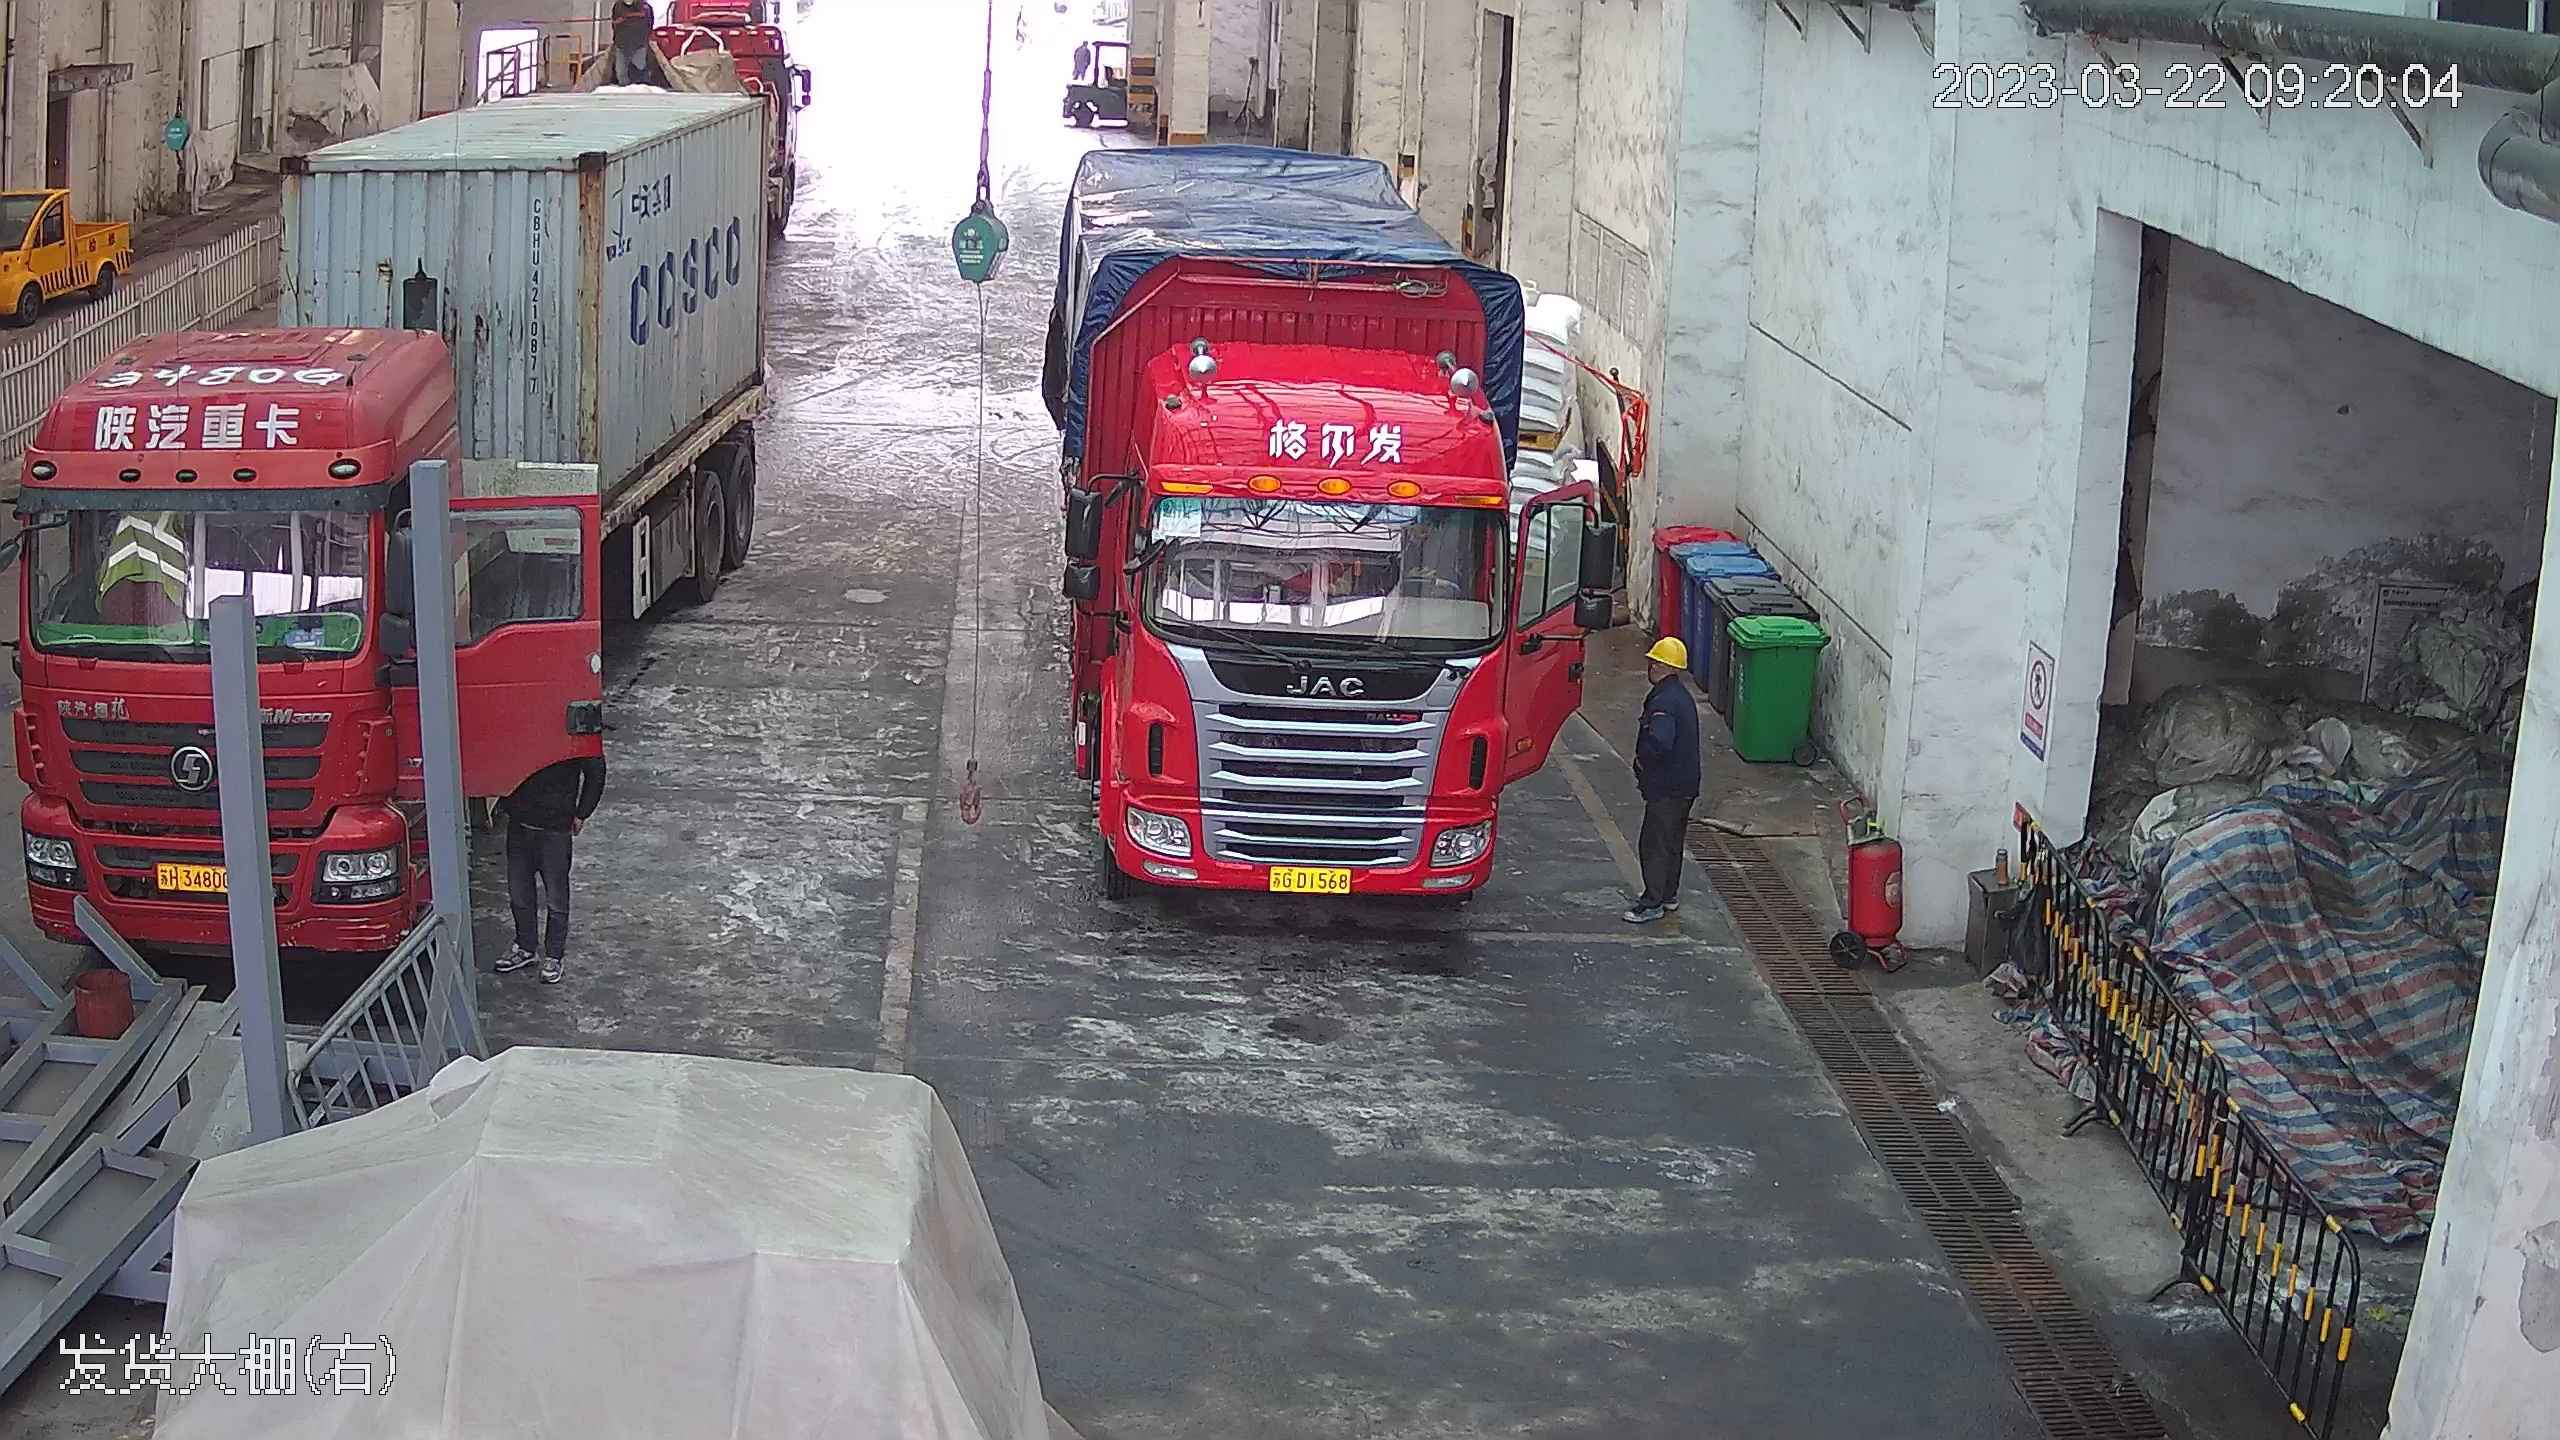head: (1634, 630, 1700, 728)
helmet: (1636, 629, 1699, 725), (1643, 630, 1691, 669)
people: (488, 696, 599, 986), (1619, 627, 1708, 925)
truck: (3, 14, 787, 967), (1029, 109, 1595, 913)
